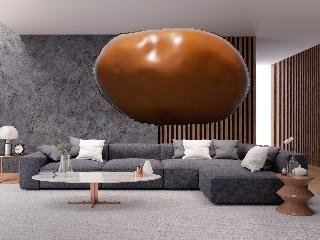potato: (91, 25, 251, 128)
